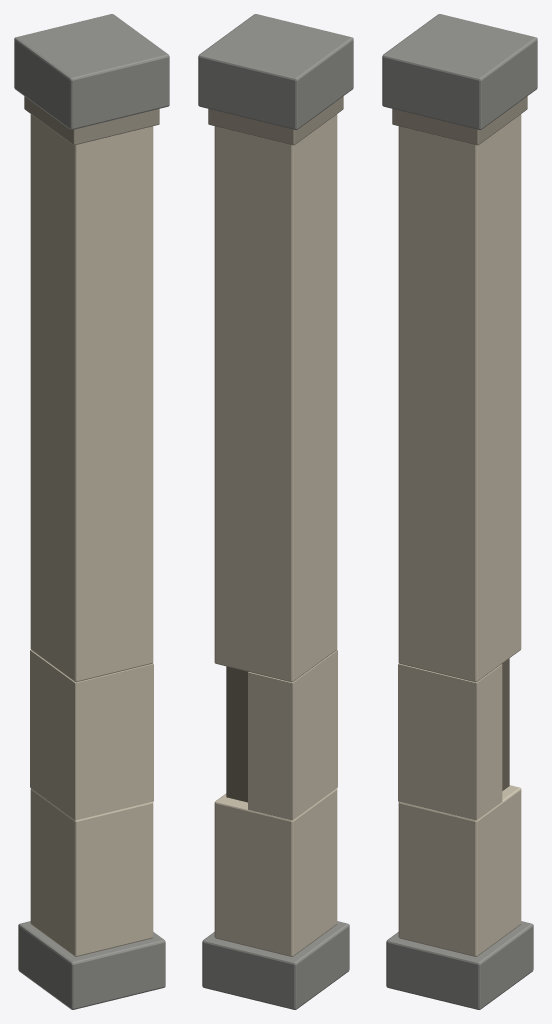
File: lobby_column.glb
3 views of the same model, side by side, from view 1: azimuth 30°, elevation 25°; view 2: azimuth 150°, elevation 25°; view 3: azimuth 330°, elevation 25° (orthographic).
Visible parts, largest first — view 1: lobby_column; view 2: lobby_column; view 3: lobby_column.
Boxes of the visible parts, box(x1,y1,x2,y2) form: lobby_column: box(14, 14, 169, 1009); lobby_column: box(198, 14, 353, 1009); lobby_column: box(382, 14, 537, 1009).
Size of what is drawn, in the model's own units: 0.76 by 6.8 by 0.76.
Materials: 1 (1 with a texture image).
